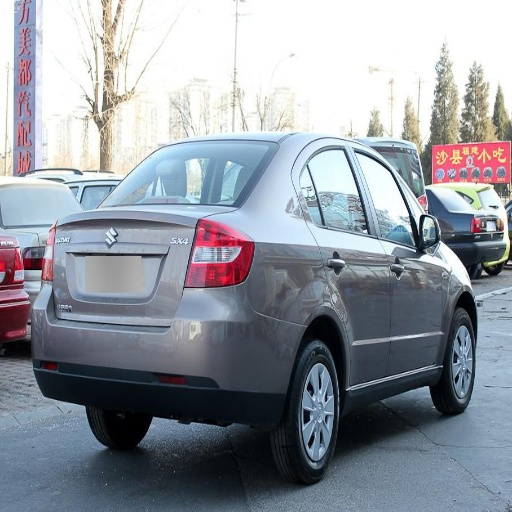back_bumper: (20, 283, 300, 428)
back_right_door: (296, 143, 390, 386)
